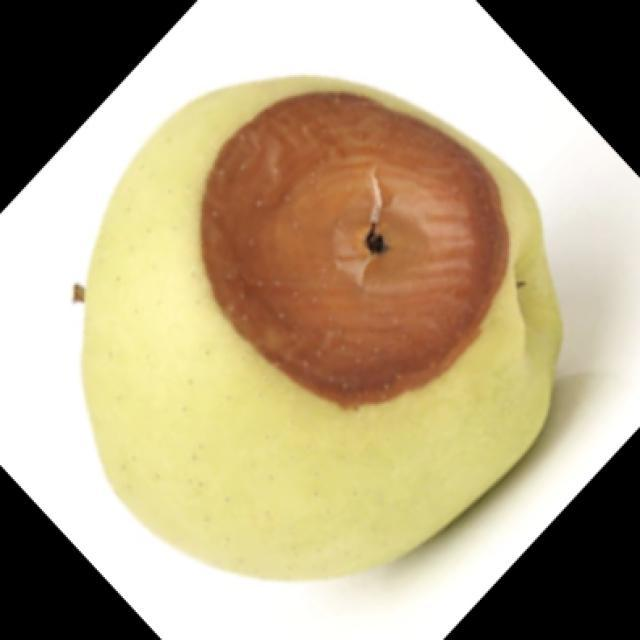Rotten: (110, 80, 558, 605)
